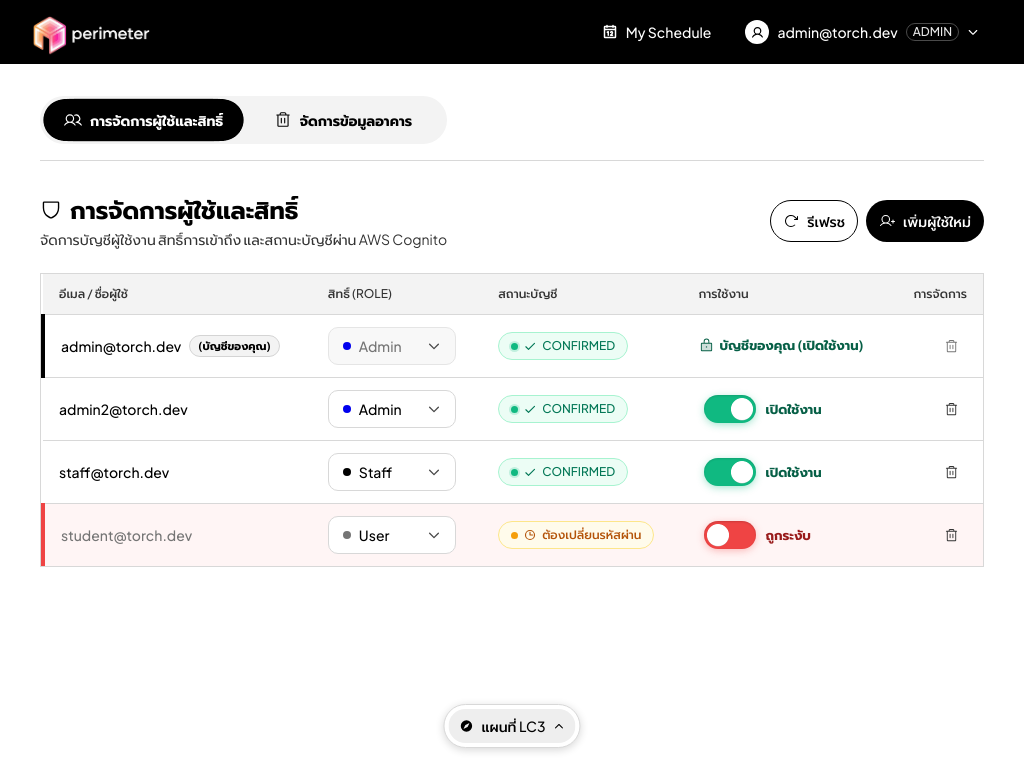
Test case: AdminManagementPage › provides delete room and delete schedule actions for admin
This screenshot has width=1024, height=768.
// Switch to Delete Building Data tab
Click the button "จัดการข้อมูลอาคาร": click(343, 120) [243,100,443,140]
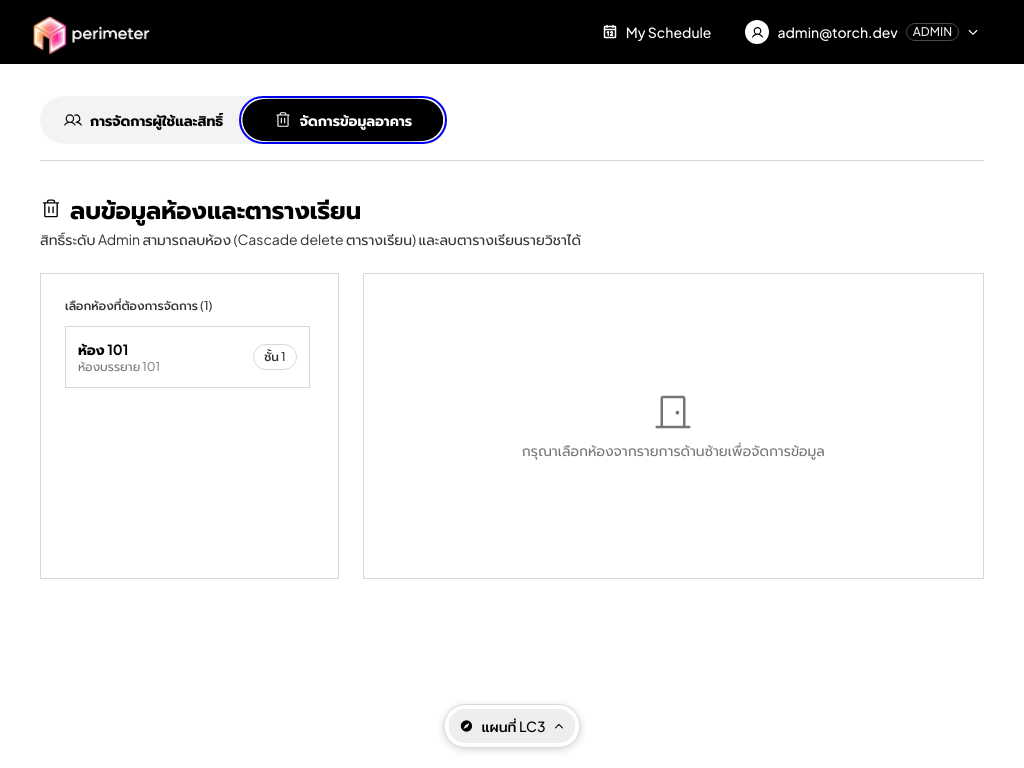
Result: the heading "ลบข้อมูลห้องและตารางเรียน" is shown at [40,194,361,224]
Result: the text "ห้อง 101" is shown at [78,340,128,358]
Click the button "ห้อง 101 ห้องบรรยาย 101 ชั้น 1": click(187, 357) [65,326,310,388]
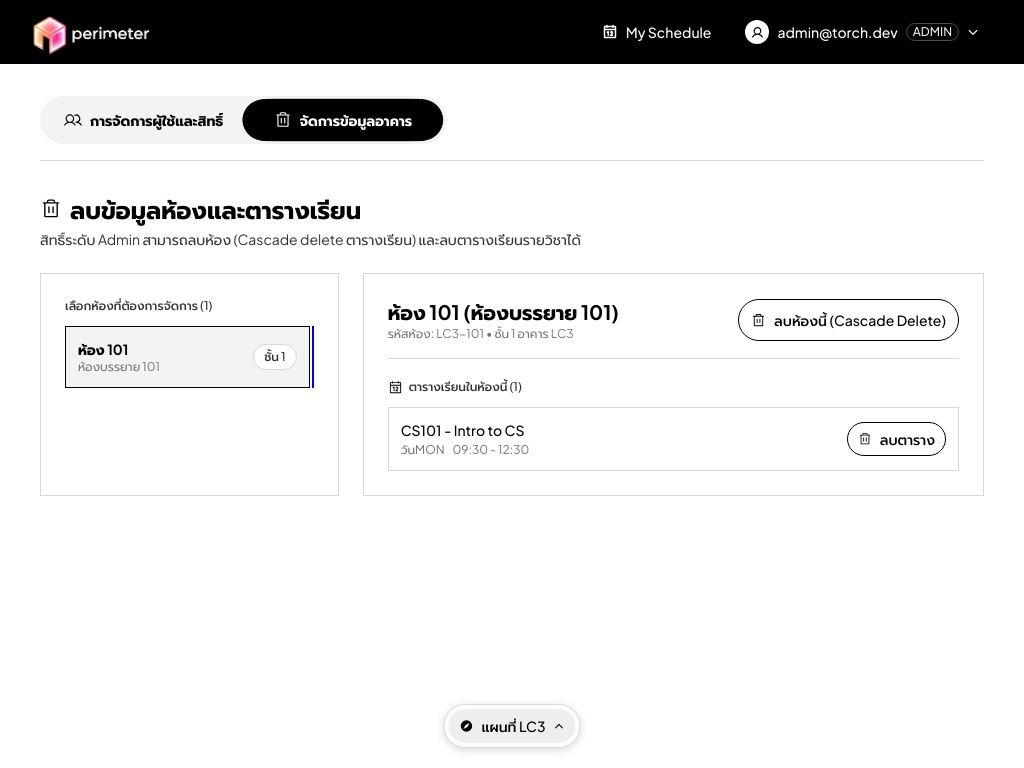
Result: the button "ลบห้องนี้ (Cascade Delete)" is shown at [738,299,959,341]
Result: the button "ลบตาราง" is shown at [847,422,946,456]
